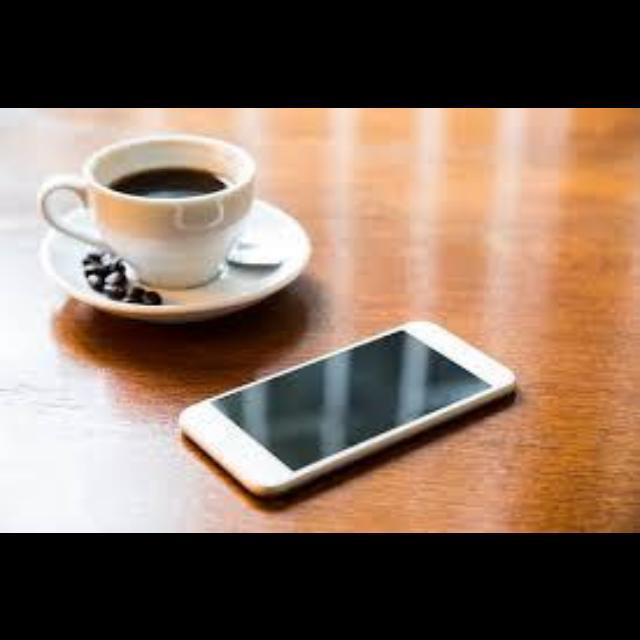phone: (124, 299, 576, 493)
